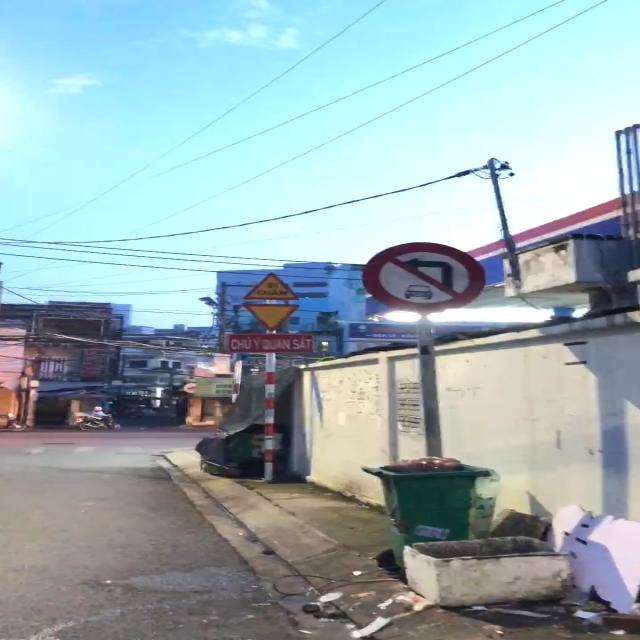Bien bao cam xe o to re trai: (353, 241, 490, 316)
Bien bao di cham: (243, 271, 302, 303)
Bien bao giao nhau voi duong uu tien: (240, 300, 302, 334)
